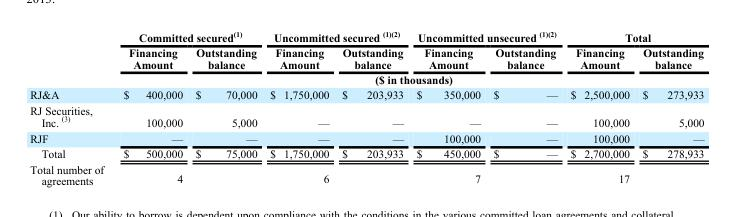table: (29, 29, 703, 186)
table column: (29, 29, 112, 186), (409, 29, 486, 186), (486, 29, 563, 186), (112, 29, 188, 186), (334, 29, 409, 186), (188, 29, 262, 186), (262, 29, 334, 186), (563, 29, 635, 186), (635, 29, 703, 186)
table column header: (29, 29, 703, 86)
table row: (29, 102, 703, 130), (29, 44, 703, 71), (29, 161, 703, 186), (29, 86, 703, 102), (29, 145, 703, 161), (29, 29, 703, 44), (29, 71, 703, 86), (29, 130, 703, 145)
table spanning cell: (112, 71, 703, 86), (409, 29, 563, 44), (112, 29, 262, 44), (262, 29, 409, 44), (563, 29, 703, 44)
